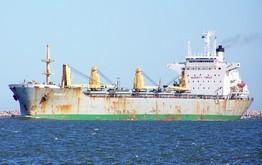Cargoship: (5, 29, 254, 120)
